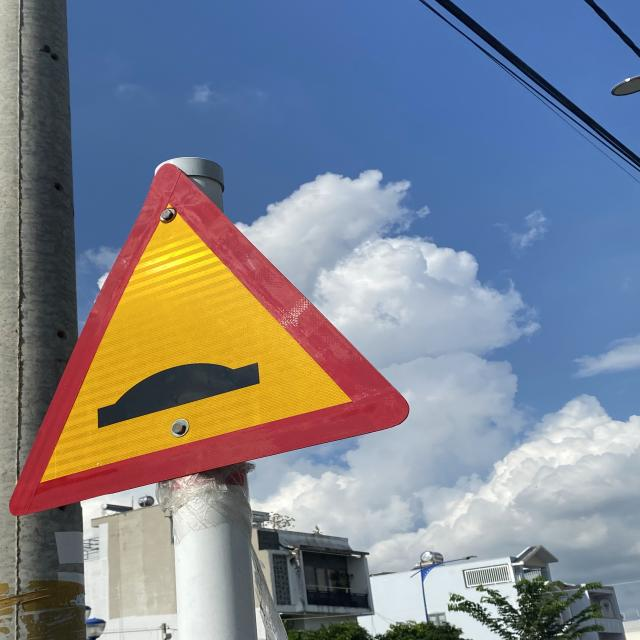Duong_Cong_Ben_Phai: (13, 156, 411, 522)
